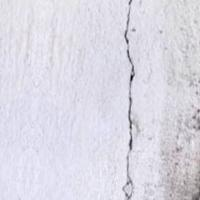crack: (104, 1, 165, 199)
